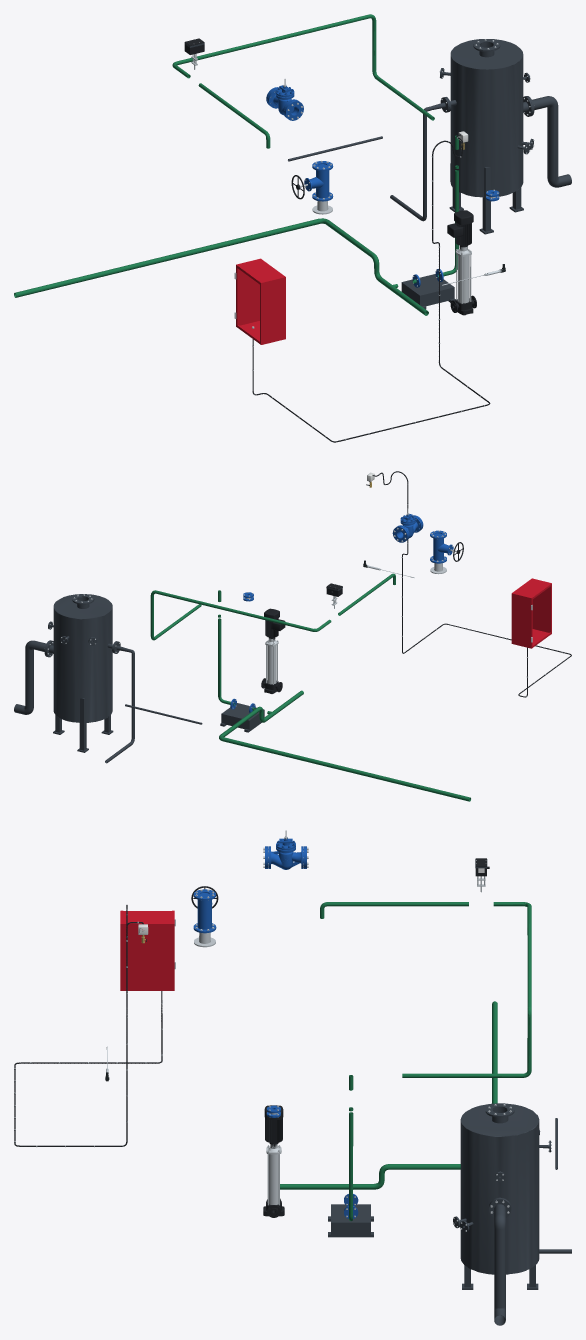
3 views of the same model, one above another, from view 1: azimuth 30°, elevation 25°; view 2: azimuth 150°, elevation 25°; view 3: azimuth 270°, elevation 25° (orthographic). The views are drawn at different scales.
Parts seen in each view (by area): view 1: separator_bdv60_5 / dark, control_cabinet / control_cabinet_0.npz, suction_common / green, to_direct / green, bdv_water_drain / dark, pump_branch_2 / dark, wiring_pressure_transmitter / black, bottom_to_bdv / dark, steam_manual / blue, pump_1 CAD solid 15, gpz CAD solid 0, pump_1 CAD solid 2; view 2: separator_bdv60_5 / dark, control_cabinet / control_cabinet_0.npz, suction_common / green, to_direct / green, bdv_water_drain / dark, pump_branch_2 / dark, wiring_pressure_transmitter / black, bottom_to_bdv / dark, steam_manual / blue, pump_branch_2 / green, pump_1 CAD solid 15; view 3: separator_bdv60_5 / dark, control_cabinet / control_cabinet_0.npz, suction_common / green, to_direct / green, bdv_water_drain / dark, wiring_pressure_transmitter / black, pump_branch_2 / dark, gpz CAD solid 0, direct_inlet / green, steam_manual / blue.
Part boxes in pixels (x1=…): separator_bdv60_5 / dark: x1=440, y1=39, x2=533, y2=234; control_cabinet / control_cabinet_0.npz: x1=234, y1=258, x2=285, y2=344; suction_common / green: x1=14, y1=218, x2=428, y2=315; to_direct / green: x1=172, y1=14, x2=434, y2=120; bdv_water_drain / dark: x1=525, y1=96, x2=571, y2=187; pump_branch_2 / dark: x1=401, y1=274, x2=455, y2=309; wiring_pressure_transmitter / black: x1=252, y1=134, x2=490, y2=442; bottom_to_bdv / dark: x1=390, y1=97, x2=449, y2=221; steam_manual / blue: x1=304, y1=161, x2=333, y2=201; pump_1 CAD solid 15: x1=447, y1=210, x2=473, y2=246; gpz CAD solid 0: x1=268, y1=78, x2=298, y2=117; pump_1 CAD solid 2: x1=458, y1=255, x2=469, y2=303; separator_bdv60_5 / dark: x1=45, y1=594, x2=116, y2=752; control_cabinet / control_cabinet_0.npz: x1=511, y1=578, x2=551, y2=648; suction_common / green: x1=219, y1=690, x2=470, y2=801; to_direct / green: x1=150, y1=590, x2=331, y2=640; bdv_water_drain / dark: x1=14, y1=640, x2=50, y2=714; pump_branch_2 / dark: x1=220, y1=703, x2=264, y2=732; wiring_pressure_transmitter / black: x1=372, y1=471, x2=571, y2=697; bottom_to_bdv / dark: x1=105, y1=641, x2=134, y2=763; steam_manual / blue: x1=430, y1=530, x2=453, y2=563; pump_branch_2 / green: x1=218, y1=590, x2=271, y2=714; pump_1 CAD solid 15: x1=264, y1=608, x2=285, y2=638; separator_bdv60_5 / dark: x1=453, y1=1103, x2=550, y2=1289; control_cabinet / control_cabinet_0.npz: x1=120, y1=910, x2=175, y2=990; suction_common / green: x1=280, y1=1001, x2=497, y2=1189; to_direct / green: x1=402, y1=902, x2=531, y2=1077; bdv_water_drain / dark: x1=488, y1=1198, x2=511, y2=1325; wiring_pressure_transmitter / black: x1=14, y1=905, x2=162, y2=1146; pump_branch_2 / dark: x1=328, y1=1204, x2=373, y2=1237; gpz CAD solid 0: x1=268, y1=830, x2=303, y2=869; direct_inlet / green: x1=320, y1=902, x2=468, y2=918; steam_manual / blue: x1=193, y1=889, x2=216, y2=933.
Bounding box in the file's own units: 6.75 × 3.29 × 5.43.
